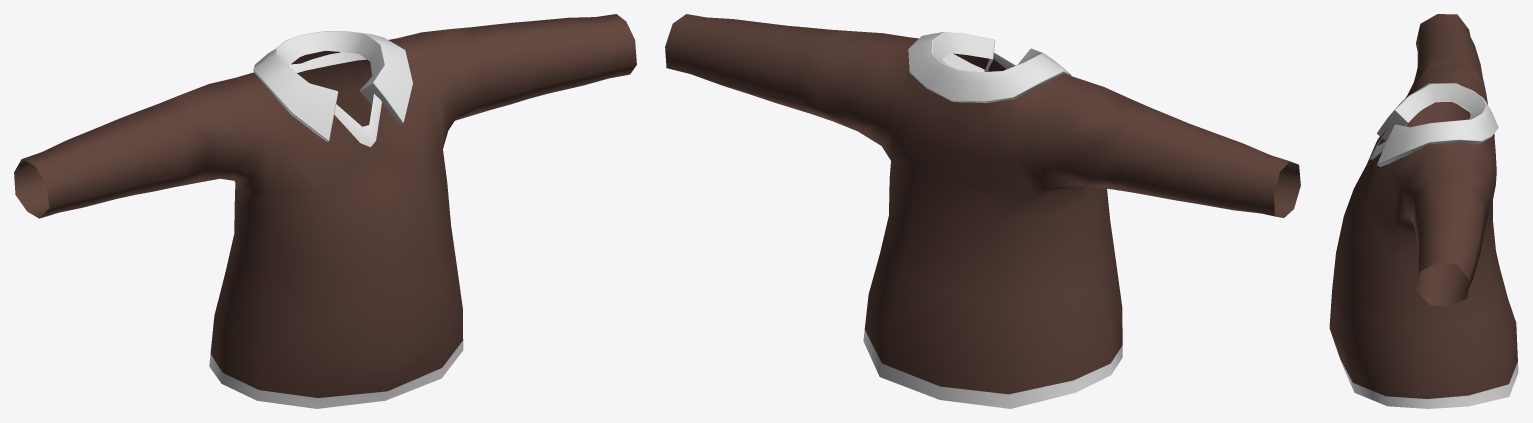
The model's file is Outerwear_Brown_003.glb.
3 views of the same model, side by side, from view 1: azimuth 30°, elevation 25°; view 2: azimuth 150°, elevation 25°; view 3: azimuth 270°, elevation 25° (orthographic). The views are drawn at different scales.
Visible parts, largest first — view 1: Outerwear_Brown_003; view 2: Outerwear_Brown_003; view 3: Outerwear_Brown_003.
Part boxes in pixels (box(x1,y1,x2,y2)): Outerwear_Brown_003: box(14, 14, 636, 408); Outerwear_Brown_003: box(665, 14, 1300, 408); Outerwear_Brown_003: box(1329, 14, 1518, 408).
Bounding box in the file's own units: 1.3 × 0.6517 × 0.4131.
1 material, 1 textured.
